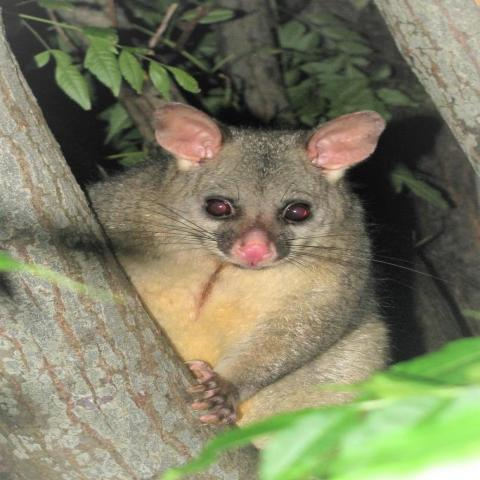small_animal: (82, 100, 394, 443)
